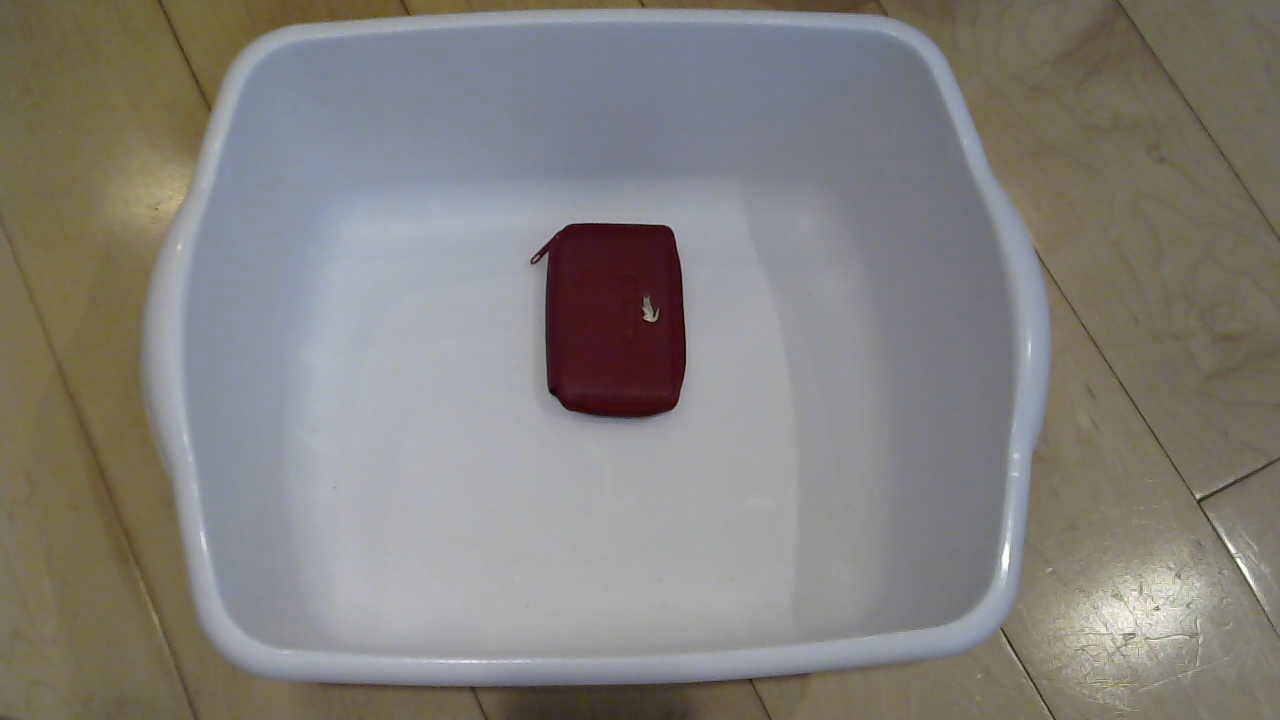wallet: (523, 202, 711, 433)
